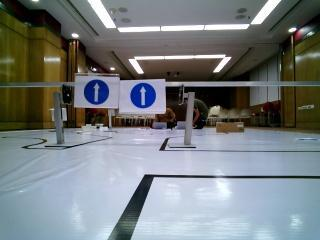straight: (75, 73, 118, 107), (122, 81, 168, 112)
